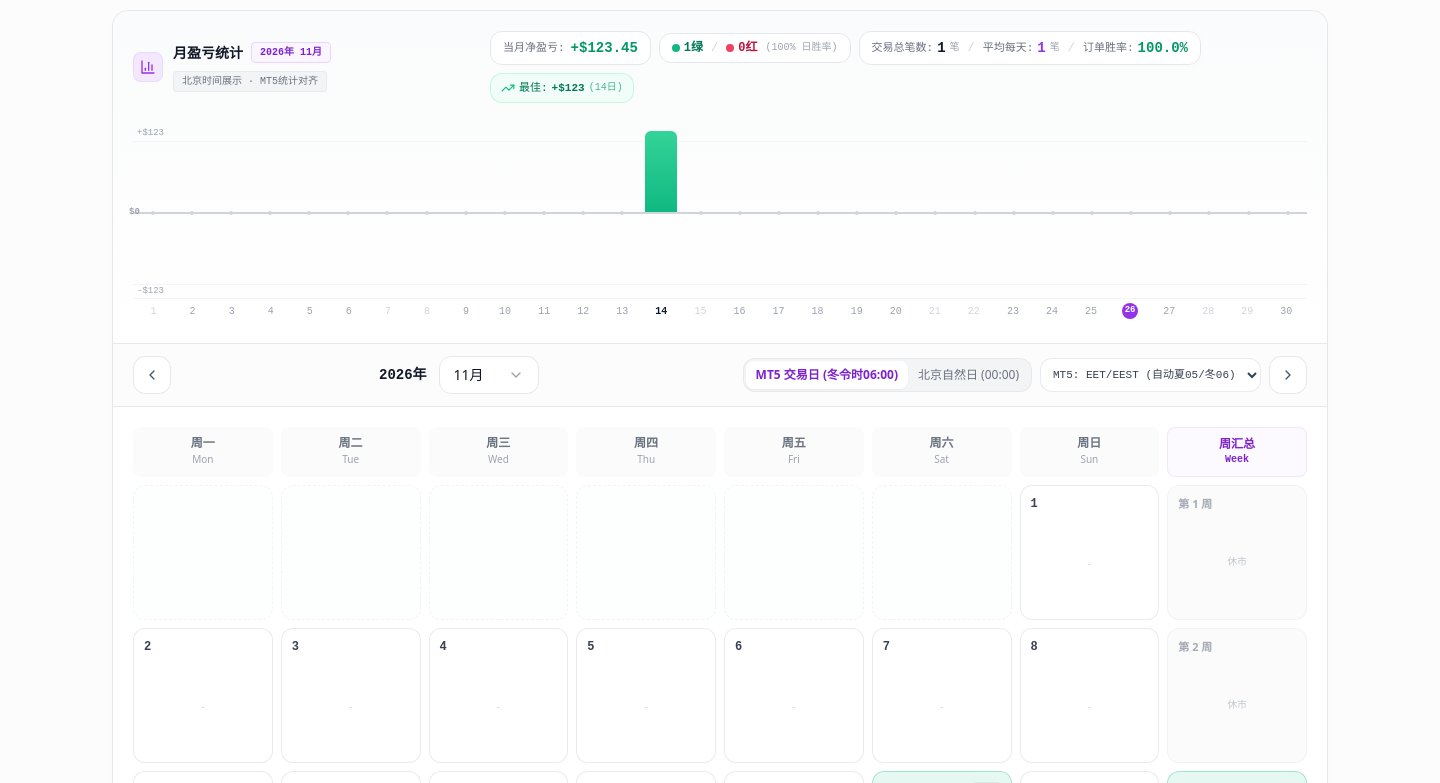
Scenario: StatsPage (Trading Calendar) › syncs MT5 server trading day vs Beijing natural day across calendar grid and monthly matrix
The width and height of the screenshot is (1440, 783).
Expected: the text "+$123.45" is shown, x1=571 y1=38 x2=638 y2=58
Click the button "北京自然日 (00:00)" at (968, 375), box x1=908 y1=361 x2=1029 y2=389
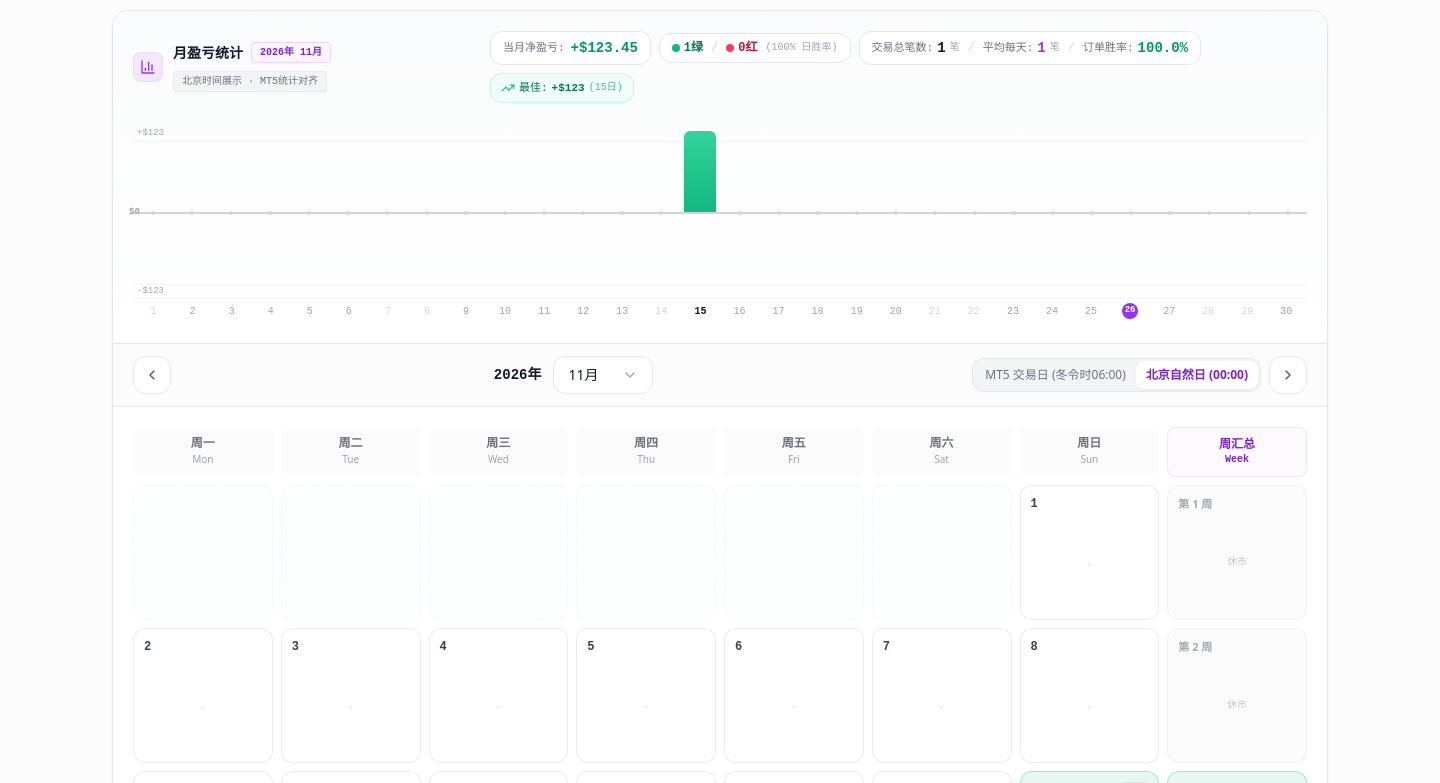
Click the button "MT5 交易日 (冬令时06:00)" at (1056, 375), box x1=975 y1=361 x2=1136 y2=389
(page scrolled)
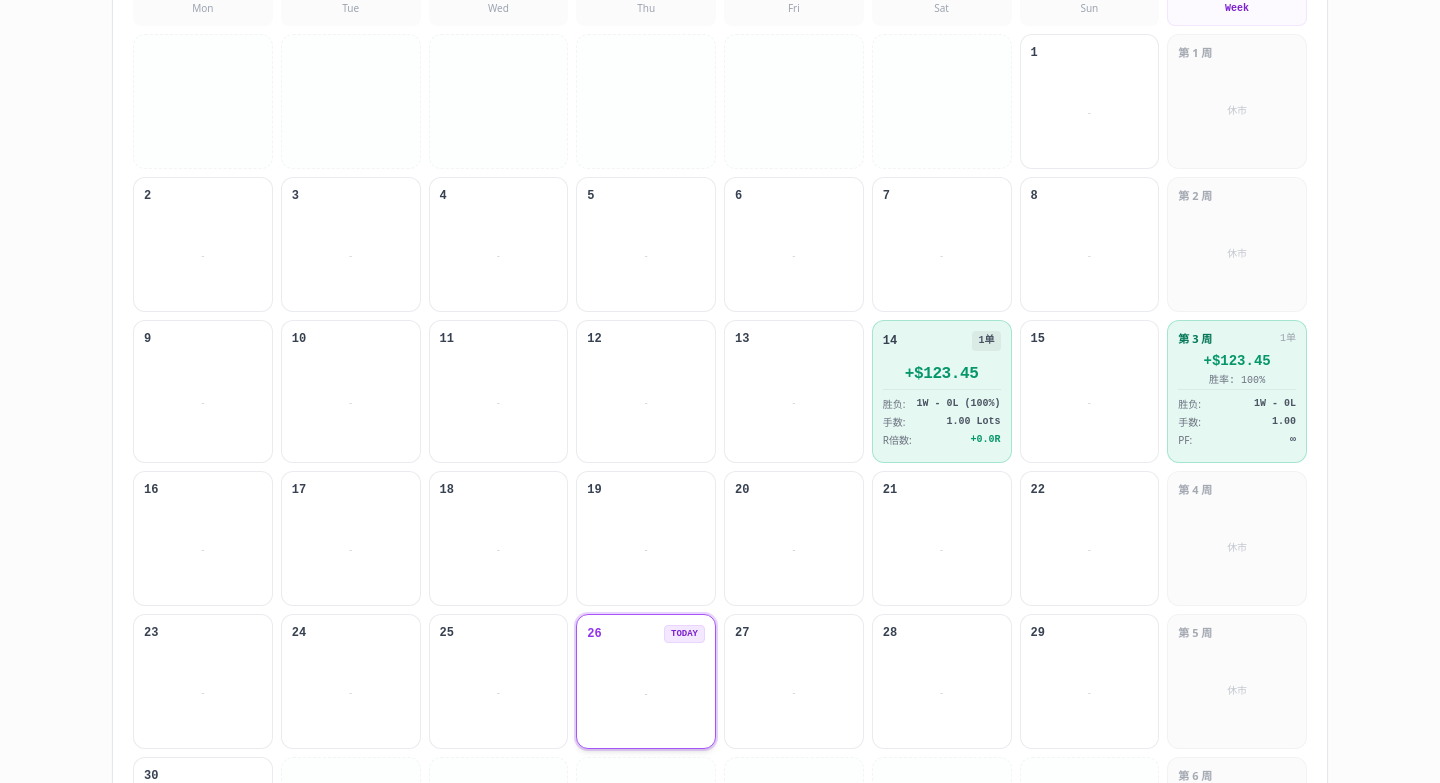
Expected: the text "14" shows "+$123.45", x1=905 y1=365 x2=978 y2=383
